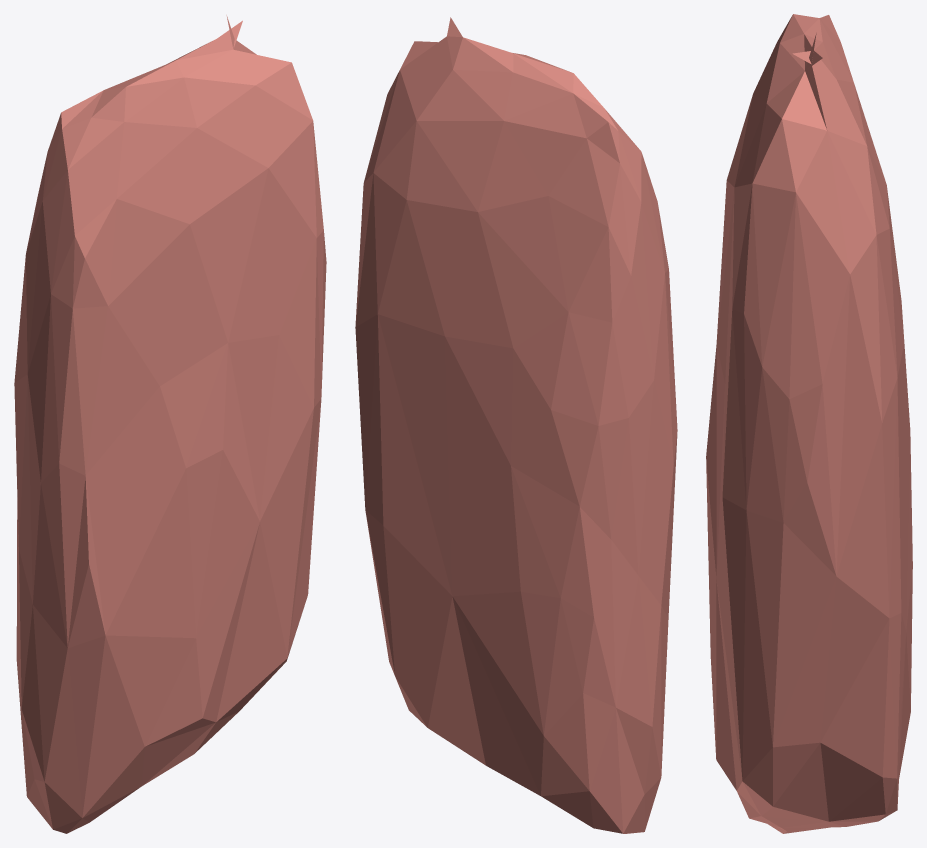
The picture shows the model from 3 angles, left to right: view 1: azimuth 30°, elevation 25°; view 2: azimuth 150°, elevation 25°; view 3: azimuth 270°, elevation 25°; orthographic projection. The views are drawn at different scales.
Visible parts, largest first — view 1: 30.obj; view 2: 30.obj; view 3: 30.obj.
Part boxes in pixels (<box>): 30.obj: <box>14,15,326,833</box>; 30.obj: <box>355,17,677,833</box>; 30.obj: <box>706,14,912,833</box>.
Size of the model in its own units: 377 by 967 by 202.
